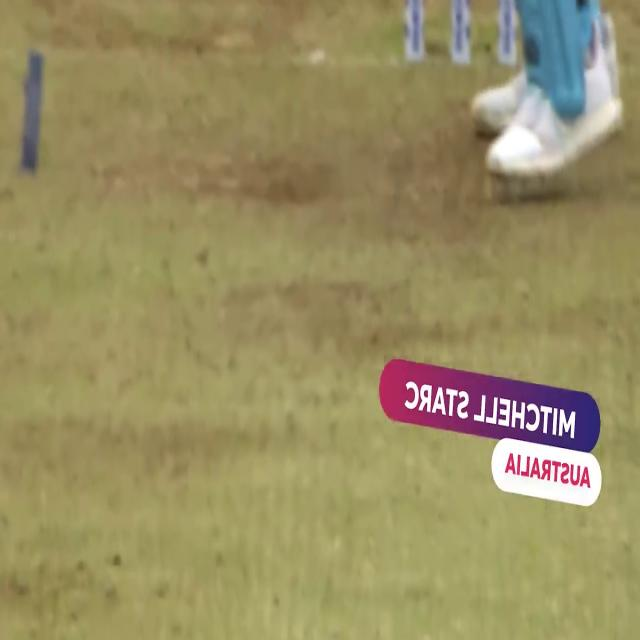ball: (377, 73, 439, 171)
